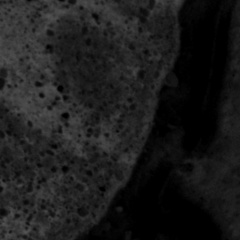Vegetation: (1, 1, 79, 144), (2, 157, 70, 237), (81, 1, 144, 33), (84, 124, 130, 162)
